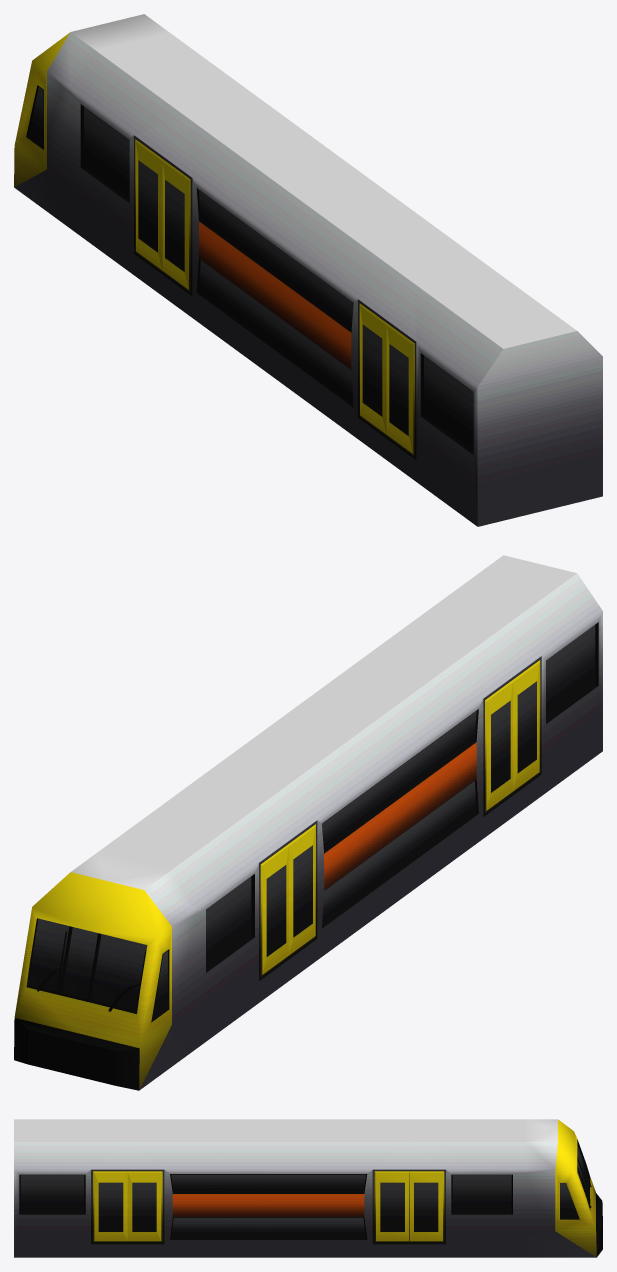
The model's file is Train.fbx.
3 views of the same model, one above another, from view 1: azimuth 30°, elevation 25°; view 2: azimuth 150°, elevation 25°; view 3: azimuth 270°, elevation 25° (orthographic). The views are drawn at different scales.
Visible parts, largest first — view 1: Train; view 2: Train; view 3: Train.
Boxes of the visible parts, x1=… form: Train: x1=14, y1=14, x2=602, y2=526; Train: x1=14, y1=555, x2=602, y2=1090; Train: x1=14, y1=1119, x2=602, y2=1257.
Size of the model in its own units: 6.42 by 8.21 by 40.61.
